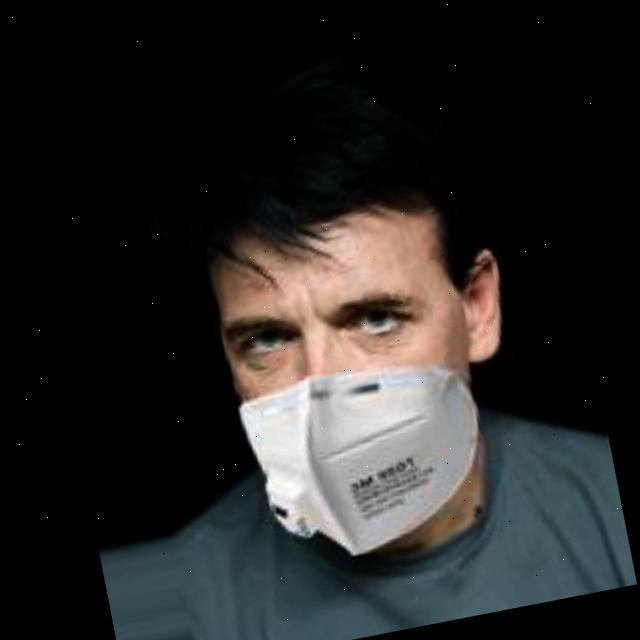suspicion: (46, 31, 544, 588)
